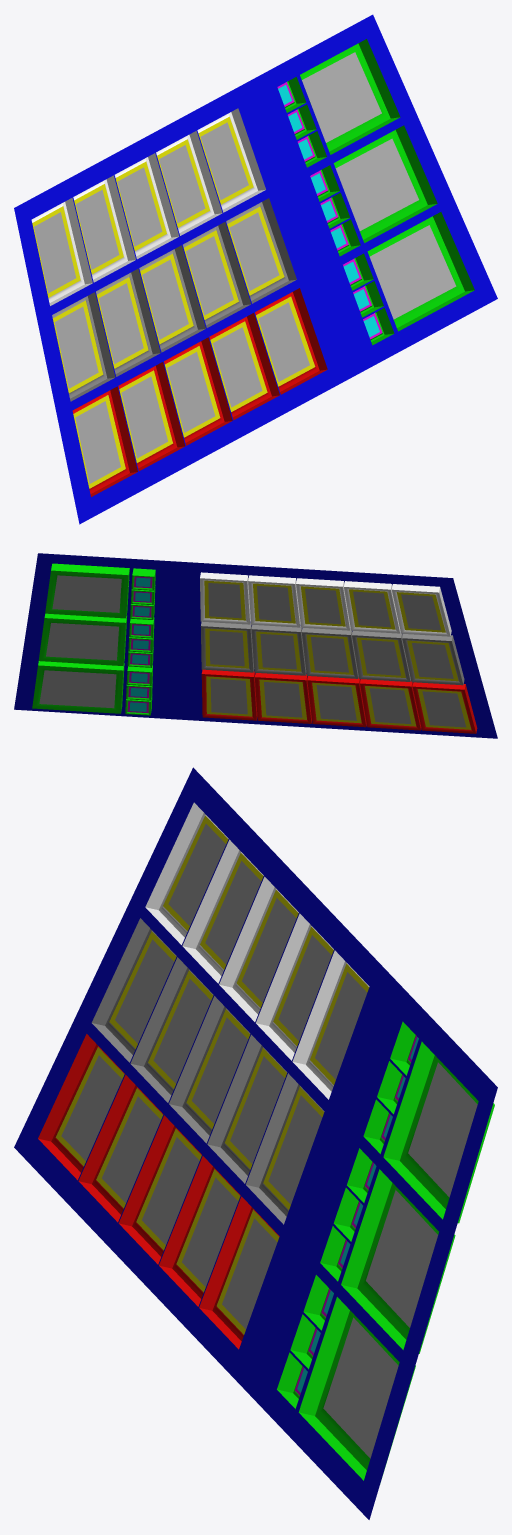
Rendered from EcranControl1.fbx.
3 renders of one model, top to bottom at view 1: azimuth 30°, elevation 25°; view 2: azimuth 150°, elevation 25°; view 3: azimuth 270°, elevation 25°, orthographic. The views are drawn at different scales.
Parts seen in each view (by area): view 1: Base, IconTekos, IconMod, polySurface44, polySurface60, polySurface69, polySurface56, IconCaution, polySurface36, polySurface40, polySurface37, polySurface38 (+11 smaller); view 2: Base, IconTekos, polySurface44, IconMod, polySurface56, polySurface60, polySurface69, IconCaution, polySurface36, polySurface40, polySurface37, polySurface38 (+11 smaller); view 3: Base, IconTekos, polySurface44, IconMod, polySurface60, polySurface69, polySurface56, polySurface40, polySurface36, polySurface37, polySurface39, polySurface38 (+6 smaller).
Part boxes in pixels (x1,y1,x2,y2): Base: (14,14,497,524); IconTekos: (34,122,309,483); IconMod: (302,52,456,319); polySurface44: (285,39,474,345); polySurface60: (72,288,327,496); polySurface69: (52,198,296,401); polySurface56: (31,108,265,305); IconCaution: (278,85,379,337); polySurface36: (256,296,315,386); polySurface40: (73,395,125,488); polySurface37: (210,321,267,411); polySurface38: (165,346,220,437); Base: (14,553,497,738); IconTekos: (208,583,466,727); polySurface44: (32,563,155,715); IconMod: (39,575,121,708); polySurface56: (200,572,451,636); polySurface60: (201,669,477,733); polySurface69: (200,621,464,685); IconCaution: (129,577,150,711); polySurface36: (206,676,252,716); polySurface40: (417,689,471,729); polySurface37: (259,679,306,719); polySurface38: (312,682,361,723); Base: (14,767,497,1519); IconTekos: (61,824,366,1329); polySurface44: (277,1021,494,1480); IconMod: (323,1062,477,1458); polySurface60: (38,1034,279,1349); polySurface69: (91,918,324,1224); polySurface56: (145,802,369,1099); polySurface40: (55,1047,124,1166); polySurface36: (216,1209,279,1334); polySurface37: (176,1169,240,1292); polySurface39: (96,1088,162,1208); polySurface38: (136,1128,201,1250).
Size of the model in its own units: 323 by 153 by 177.
